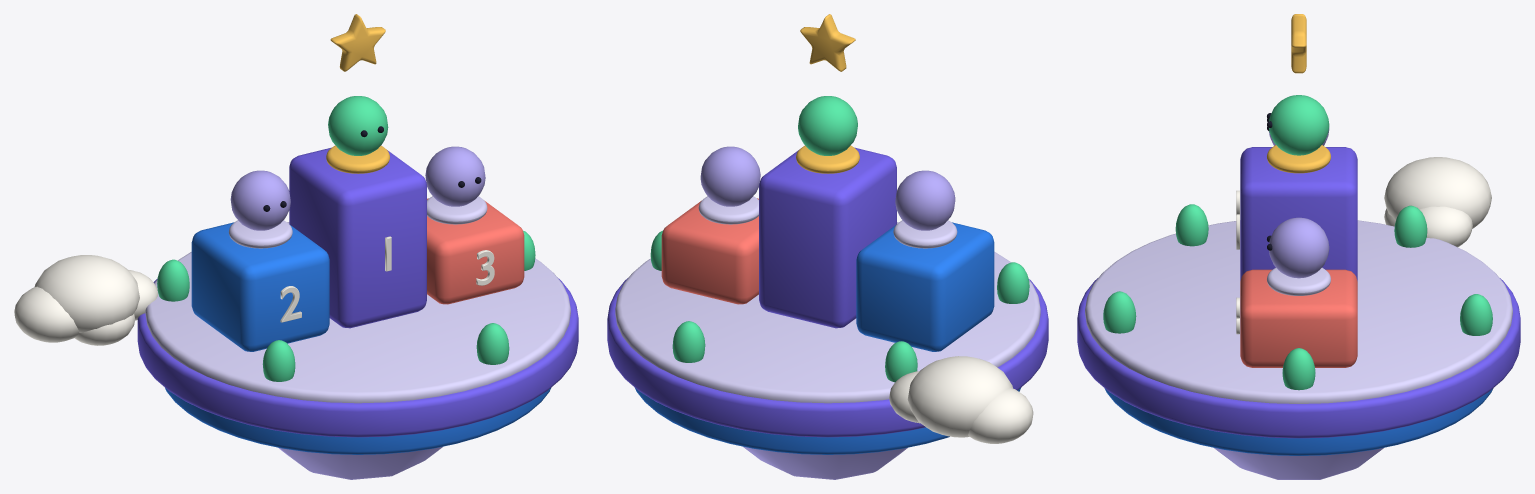
The model's file is podium.glb.
3 renders of one model, left to right at view 1: azimuth 30°, elevation 25°; view 2: azimuth 150°, elevation 25°; view 3: azimuth 270°, elevation 25°, orthographic.
Visible parts, largest first — view 1: Island pale top, Podium 1, Island violet rim, Podium 2, Podium 3, Island blue underside, Cloud.001, Floating rock, Podium avatar, Podium avatar.002, Podium avatar.001, Cloud (+9 smaller); view 2: Island pale top, Podium 1, Podium 2, Island violet rim, Podium 3, Cloud.001, Island blue underside, Floating rock, Podium avatar, Podium avatar.002, Podium avatar.001, Cloud (+8 smaller); view 3: Island pale top, Island violet rim, Podium 1, Podium 3, Island blue underside, Cloud.001, Floating rock, Podium avatar.001, Podium avatar.002, Cloud.002, Avatar base.001, Avatar base.002 (+6 smaller).
Part boxes in pixels (x1,y1,x2,y2): Island pale top: [145, 222, 570, 403]; Podium 1: [289, 147, 426, 328]; Island violet rim: [137, 277, 578, 437]; Podium 2: [191, 222, 329, 351]; Podium 3: [427, 198, 524, 304]; Island blue underside: [165, 387, 551, 454]; Cloud.001: [34, 255, 139, 332]; Floating rock: [278, 446, 442, 479]; Podium avatar: [230, 170, 290, 230]; Podium avatar.002: [425, 146, 485, 206]; Podium avatar.001: [328, 96, 388, 155]; Cloud: [14, 286, 79, 342]; Island pale top: [615, 222, 1040, 403]; Podium 1: [759, 147, 896, 328]; Podium 2: [856, 222, 994, 351]; Island violet rim: [607, 278, 1048, 437]; Podium 3: [661, 198, 758, 304]; Cloud.001: [907, 356, 1012, 437]; Island blue underside: [635, 388, 1020, 454]; Floating rock: [742, 446, 907, 479]; Podium avatar: [895, 170, 955, 230]; Podium avatar.002: [700, 146, 760, 206]; Podium avatar.001: [798, 96, 857, 155]; Cloud: [968, 388, 1033, 443]; Island pale top: [1085, 220, 1512, 403]; Island violet rim: [1077, 278, 1520, 438]; Podium 1: [1240, 147, 1357, 280]; Podium 3: [1240, 269, 1357, 367]; Island blue underside: [1104, 388, 1493, 455]; Cloud.001: [1384, 157, 1491, 228]; Floating rock: [1214, 448, 1383, 479]; Podium avatar.001: [1269, 95, 1329, 155]; Podium avatar.002: [1269, 217, 1329, 278]; Cloud.002: [1420, 206, 1472, 247]; Avatar base.001: [1267, 145, 1330, 173]; Avatar base.002: [1267, 267, 1330, 295].
Size of the model in its own units: 6.15 by 5.61 by 5.1.
